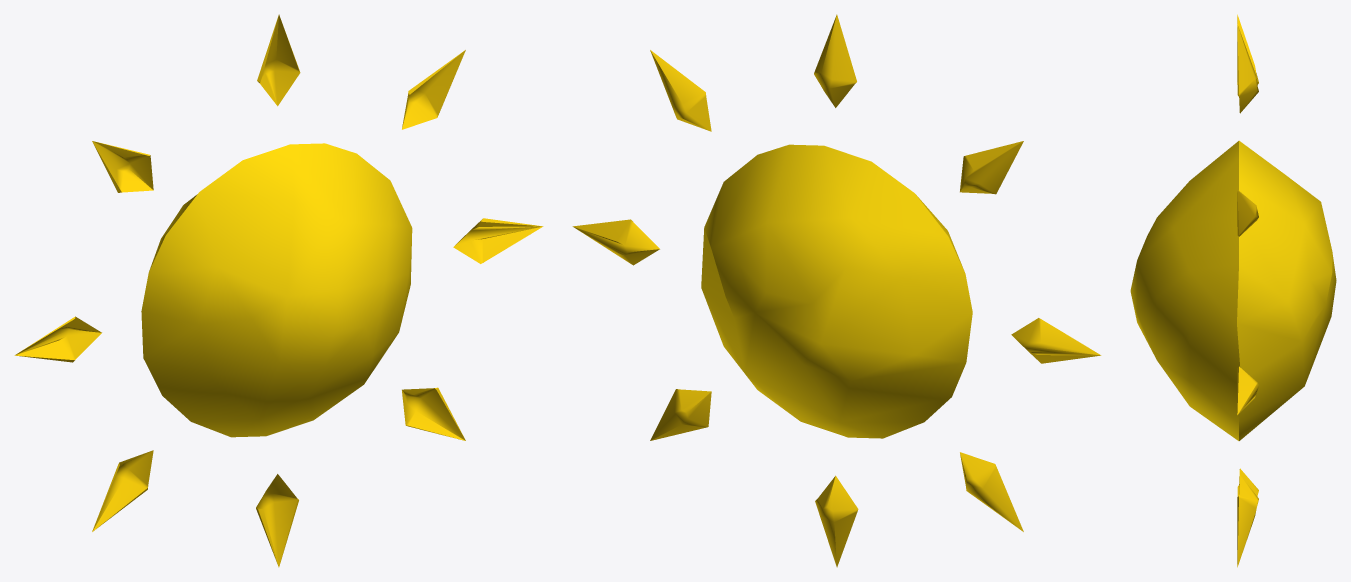
Rendered from Sol.fbx.
3 renders of one model, left to right at view 1: azimuth 30°, elevation 25°; view 2: azimuth 150°, elevation 25°; view 3: azimuth 270°, elevation 25°, orthographic. The views are drawn at different scales.
Visible parts, largest first — view 1: Object_3; view 2: Object_3; view 3: Object_3.
Boxes of the visible parts, bbox=[...] form: Object_3: bbox=[14, 14, 543, 567]; Object_3: bbox=[572, 14, 1101, 567]; Object_3: bbox=[1130, 14, 1336, 567].
Bounding box in the file's own units: 24652 × 24652 × 8616.
